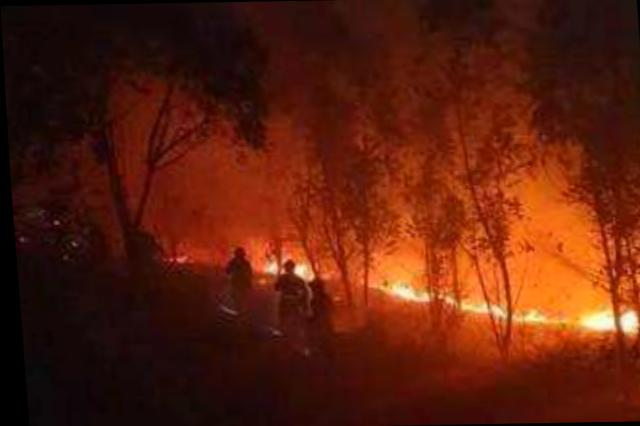fire: (369, 267, 639, 337), (256, 244, 324, 274)
